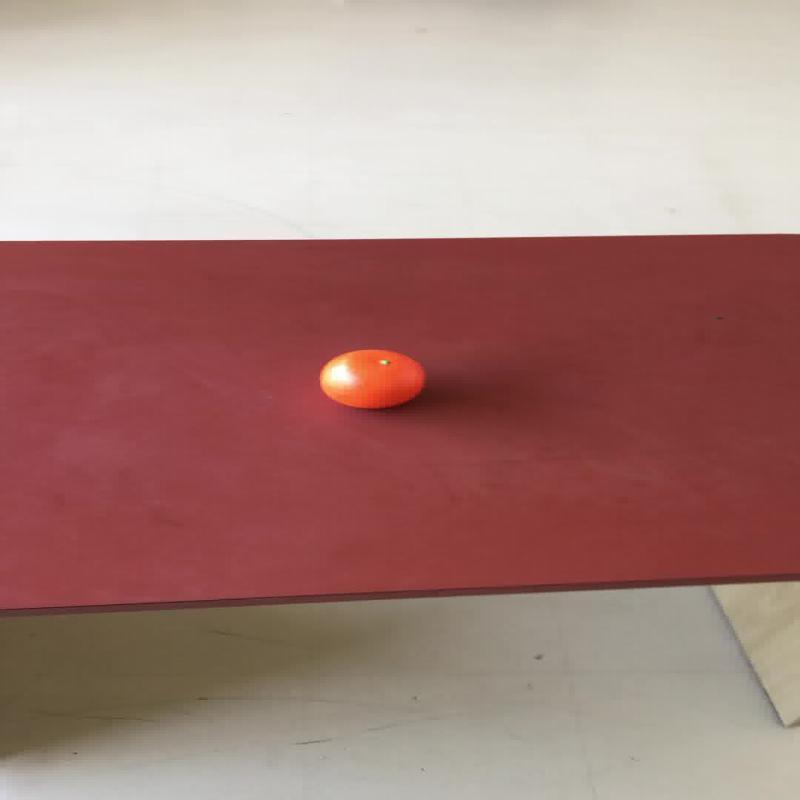orange: (318, 348, 424, 409)
